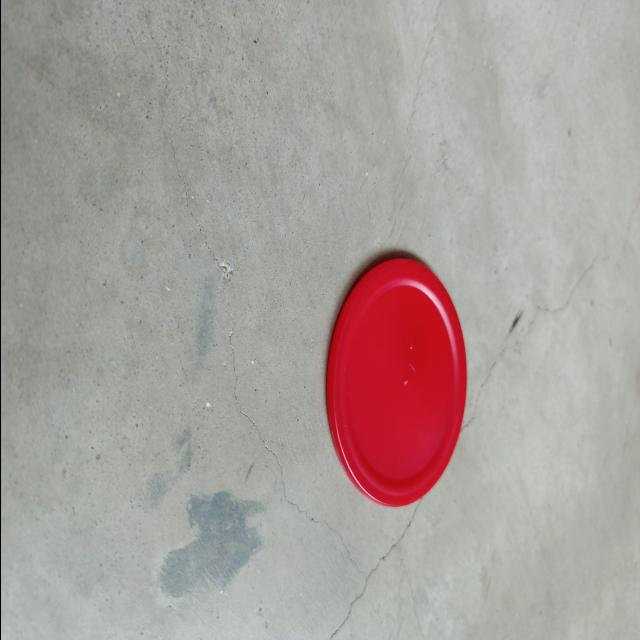chip: (314, 246, 468, 514)
